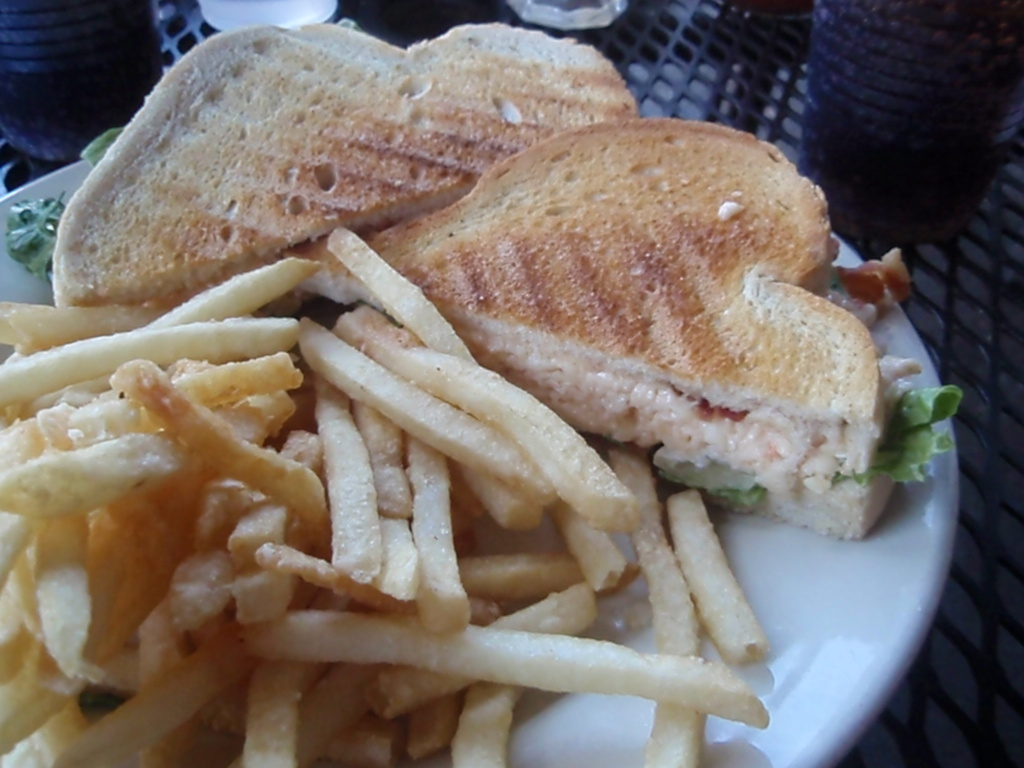French fries: (42, 136, 883, 768)
